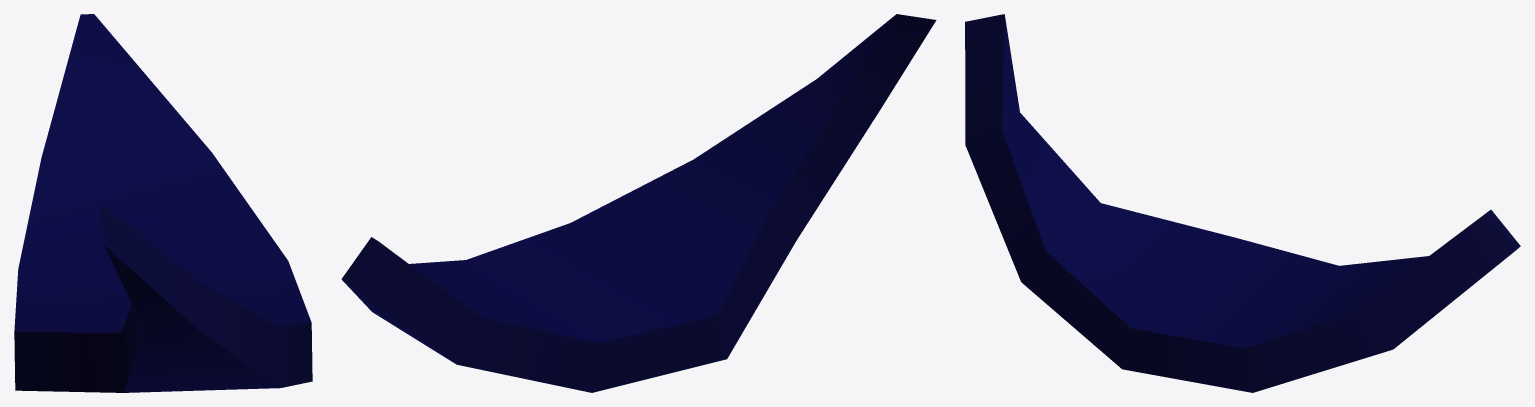
The model's file is BrokenGlassShard002.glb.
The picture shows the model from 3 angles, left to right: view 1: azimuth 30°, elevation 25°; view 2: azimuth 150°, elevation 25°; view 3: azimuth 270°, elevation 25°; orthographic projection. The views are drawn at different scales.
Parts seen in each view (by area): view 1: BrokenGlassShard002; view 2: BrokenGlassShard002; view 3: BrokenGlassShard002.
Part boxes in pixels (x1=…): BrokenGlassShard002: x1=14, y1=14, x2=312, y2=392; BrokenGlassShard002: x1=341, y1=14, x2=936, y2=392; BrokenGlassShard002: x1=965, y1=14, x2=1520, y2=392.
Bounding box in the file's own units: 0.2924 × 0.2289 × 0.4706.
